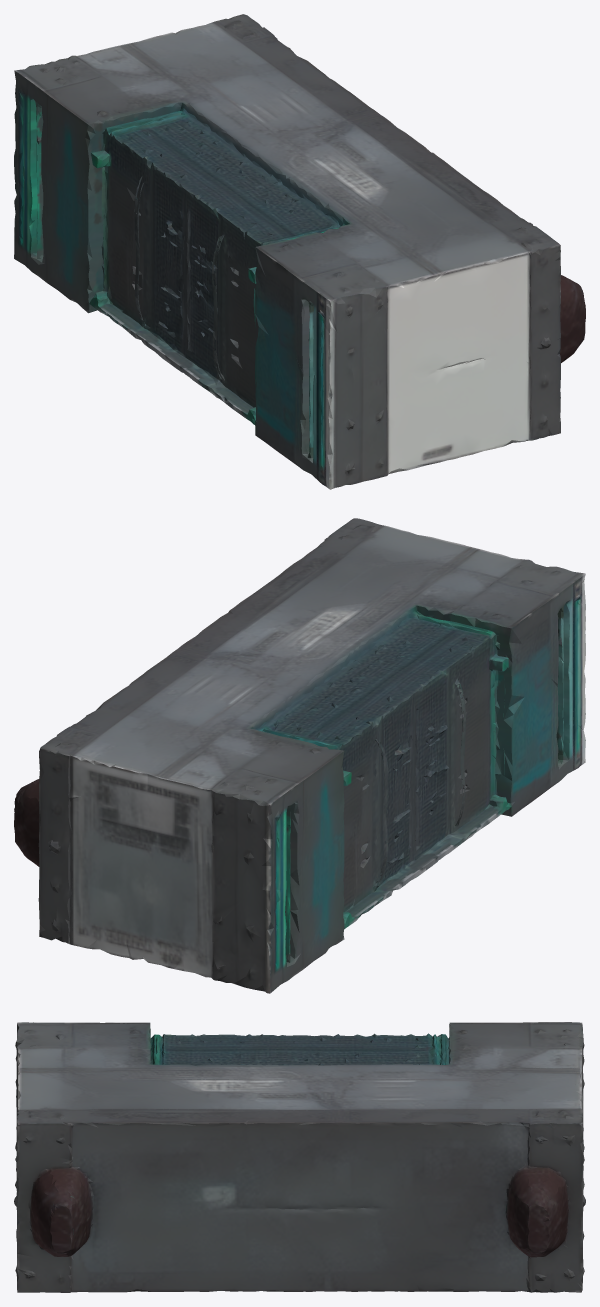
File: rodin_CK1_ExpeditionRack_raw.glb
3 renders of one model, top to bottom at view 1: azimuth 30°, elevation 25°; view 2: azimuth 150°, elevation 25°; view 3: azimuth 270°, elevation 25°, orthographic. The views are drawn at different scales.
Parts seen in each view (by area): view 1: model; view 2: model; view 3: model.
Part boxes in pixels (left/top/right/bottom): model: left=14, top=14, right=585, bottom=489; model: left=14, top=518, right=585, bottom=993; model: left=14, top=1022, right=585, bottom=1292.
Bounding box in the file's own units: 0.9439 × 0.6321 × 1.89.
1 material, 1 textured.
